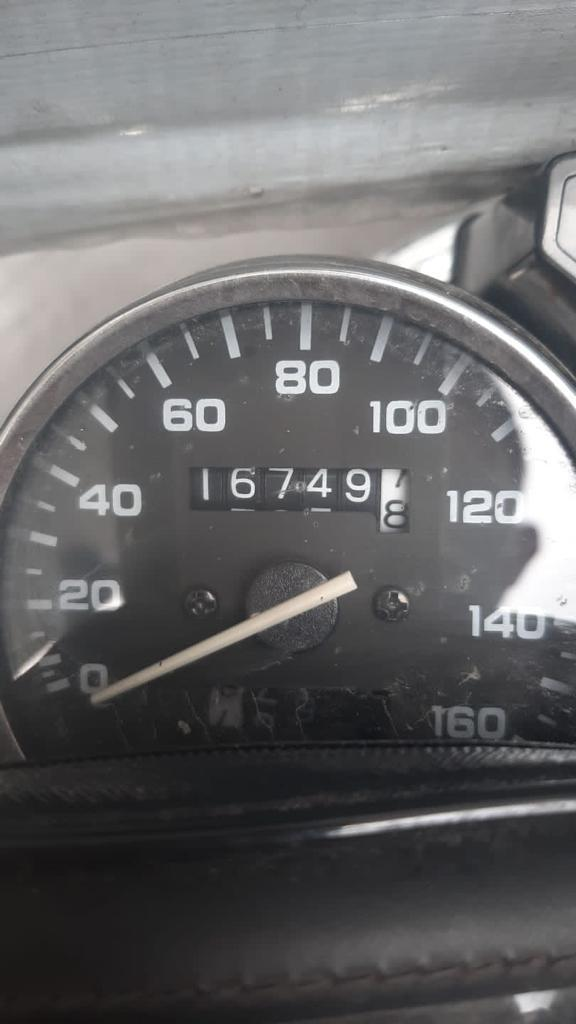1: (201, 466, 211, 502)
4: (305, 467, 332, 498)
6: (230, 465, 256, 499)
7: (267, 466, 295, 499)
8: (383, 499, 409, 529)
9: (344, 467, 371, 503)
odometer: (182, 462, 416, 538)
